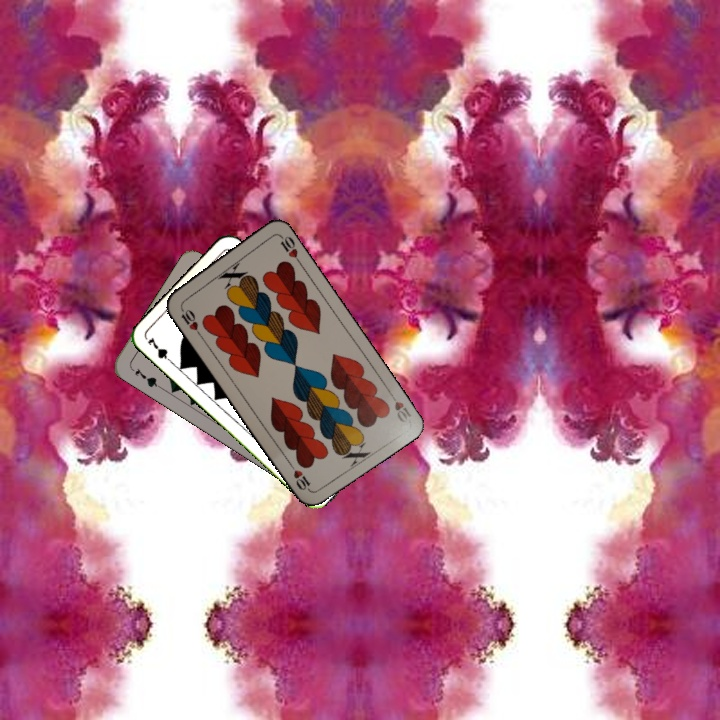G7: (143, 333, 176, 367), (127, 364, 163, 390)
H10: (385, 387, 414, 426), (176, 302, 204, 338)
